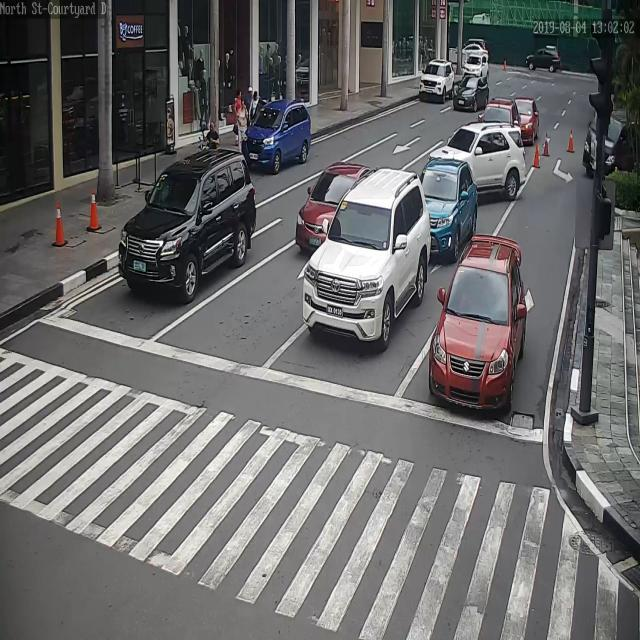car: (301, 168, 431, 352), (118, 148, 256, 303), (427, 235, 528, 412), (429, 121, 525, 203), (294, 164, 374, 254), (421, 161, 479, 266), (241, 98, 313, 175), (419, 61, 456, 104), (453, 74, 490, 109), (513, 95, 539, 143), (479, 97, 520, 124), (525, 48, 561, 73), (463, 51, 491, 83)
jeepney: (276, 451, 383, 617), (197, 118, 221, 149)
van: (581, 107, 639, 180)
